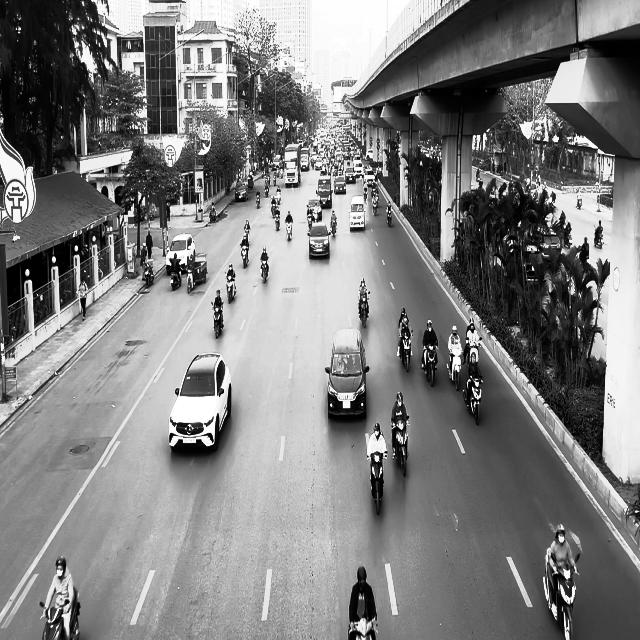bus: (284, 143, 301, 187)
car: (168, 352, 232, 452), (325, 328, 369, 418), (165, 233, 196, 275), (307, 222, 330, 259), (349, 196, 366, 231), (235, 182, 248, 201), (334, 175, 346, 194)
motorbike: (543, 548, 580, 640), (39, 588, 80, 640), (367, 452, 387, 514), (462, 375, 483, 425), (392, 416, 409, 476), (446, 349, 464, 391), (348, 616, 378, 640), (422, 343, 438, 386), (398, 331, 413, 372), (464, 337, 482, 368), (211, 300, 224, 339), (358, 292, 370, 328), (224, 271, 236, 303), (143, 259, 154, 287), (170, 266, 182, 290), (240, 240, 249, 268), (260, 258, 269, 282), (187, 265, 194, 293), (594, 230, 604, 248), (286, 218, 292, 240), (274, 209, 280, 231), (386, 206, 392, 227), (209, 209, 216, 222), (256, 194, 260, 208)
